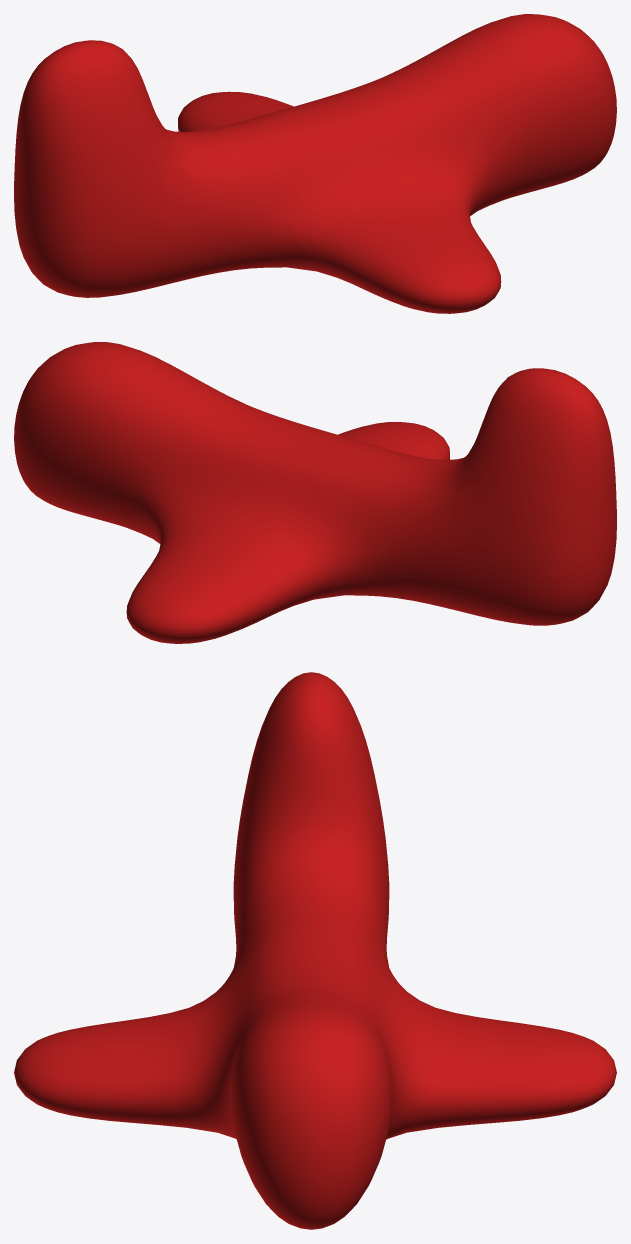
Rendered from airplane-polygon-modelling.dae.
The picture shows the model from 3 angles, top to bottom: view 1: azimuth 30°, elevation 25°; view 2: azimuth 150°, elevation 25°; view 3: azimuth 270°, elevation 25°; orthographic projection. The views are drawn at different scales.
Visible parts, largest first — view 1: Box; view 2: Box; view 3: Box.
Boxes of the visible parts, x1,y1,x2,y2 form: Box: (14,14,616,313); Box: (14,342,616,643); Box: (14,672,616,1229).
Size of the model in its own units: 4.54 by 1.9 by 3.6.
